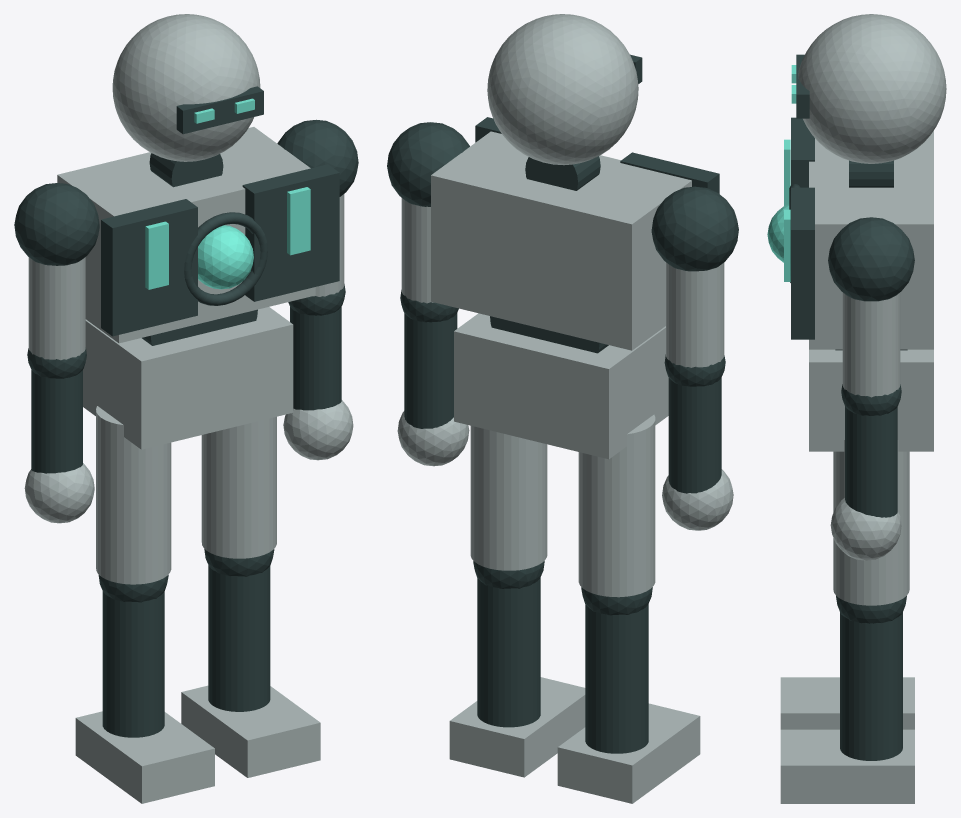
File: robot.glb
The picture shows the model from 3 angles, left to right: view 1: azimuth 30°, elevation 25°; view 2: azimuth 150°, elevation 25°; view 3: azimuth 270°, elevation 25°; orthographic projection. The views are drawn at different scales.
Parts seen in each view (by area): view 1: Pelvis, Head, Torso, ThighL, ThighR, ChestPanelL, ChestPanelR, ShinL, ShinR, FootL, FootR, ShoulderL (+18 smaller); view 2: Torso, Pelvis, Head, ThighL, ThighR, ShinL, ShinR, FootL, FootR, ShoulderL, ForearmL, UpperArmL (+12 smaller); view 3: Head, Torso, ShinR, FootR, Pelvis, ShoulderR, UpperArmR, ThighR, ForearmR, FootL, ChestPanelR, HandR (+8 smaller).
Part boxes in pixels (left/top/right/bottom): Pelvis: left=83, top=307, right=293, bottom=449; Head: left=112, top=14, right=260, bottom=161; Torso: left=57, top=127, right=315, bottom=343; ThighL: left=96, top=406, right=171, bottom=584; ThighR: left=201, top=416, right=276, bottom=558; ChestPanelL: left=101, top=199, right=197, bottom=336; ChestPanelR: left=242, top=164, right=339, bottom=301; ShinL: left=102, top=591, right=164, bottom=737; ShinR: left=208, top=565, right=270, bottom=711; FootL: left=75, top=711, right=214, bottom=803; FootR: left=181, top=685, right=320, bottom=777; ShoulderL: left=14, top=183, right=99, bottom=265; Torso: left=431, top=131, right=691, bottom=350; Pelvis: left=454, top=313, right=668, bottom=459; Head: left=487, top=14, right=638, bottom=165; ThighL: left=578, top=414, right=655, bottom=597; ThighR: left=470, top=426, right=547, bottom=570; ShinL: left=585, top=604, right=648, bottom=753; ShinR: left=477, top=577, right=540, bottom=727; FootL: left=557, top=703, right=700, bottom=803; FootR: left=449, top=677, right=585, bottom=777; ShoulderL: left=651, top=186, right=738, bottom=271; ForearmL: left=668, top=377, right=721, bottom=493; UpperArmL: left=666, top=262, right=724, bottom=367; Head: left=798, top=14, right=946, bottom=163; Torso: left=809, top=130, right=933, bottom=349; ShinR: left=840, top=612, right=902, bottom=760; FootR: left=780, top=729, right=914, bottom=803; Pelvis: left=809, top=349, right=933, bottom=451; ShoulderR: left=828, top=217, right=914, bottom=301; UpperArmR: left=842, top=292, right=900, bottom=397; ThighR: left=833, top=440, right=909, bottom=605; ForearmR: left=845, top=406, right=897, bottom=517; FootL: left=780, top=677, right=914, bottom=729; ChestPanelR: left=791, top=187, right=814, bottom=339; HandR: left=830, top=498, right=901, bottom=560.
Size of the model in its own units: 2.96 by 6.19 by 1.36.
